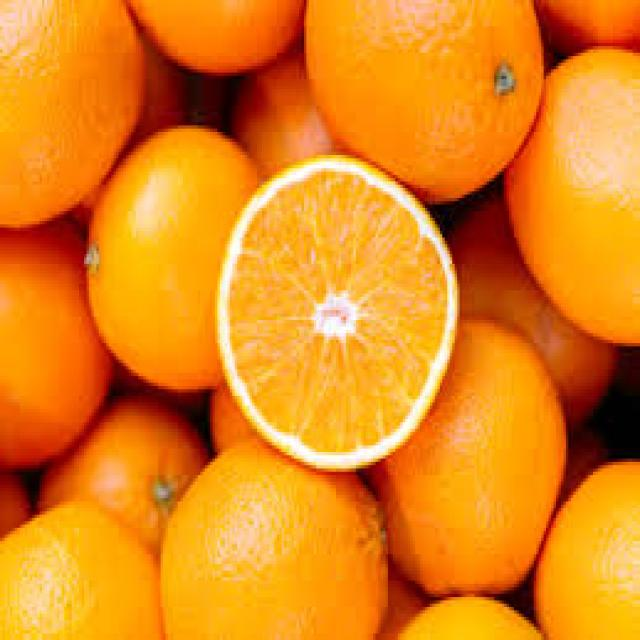orange: (211, 149, 471, 461)
